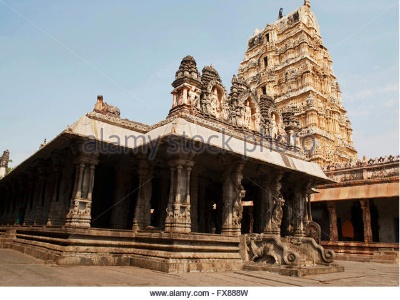gopura: (202, 13, 369, 175)
mandapa: (140, 104, 321, 238)
